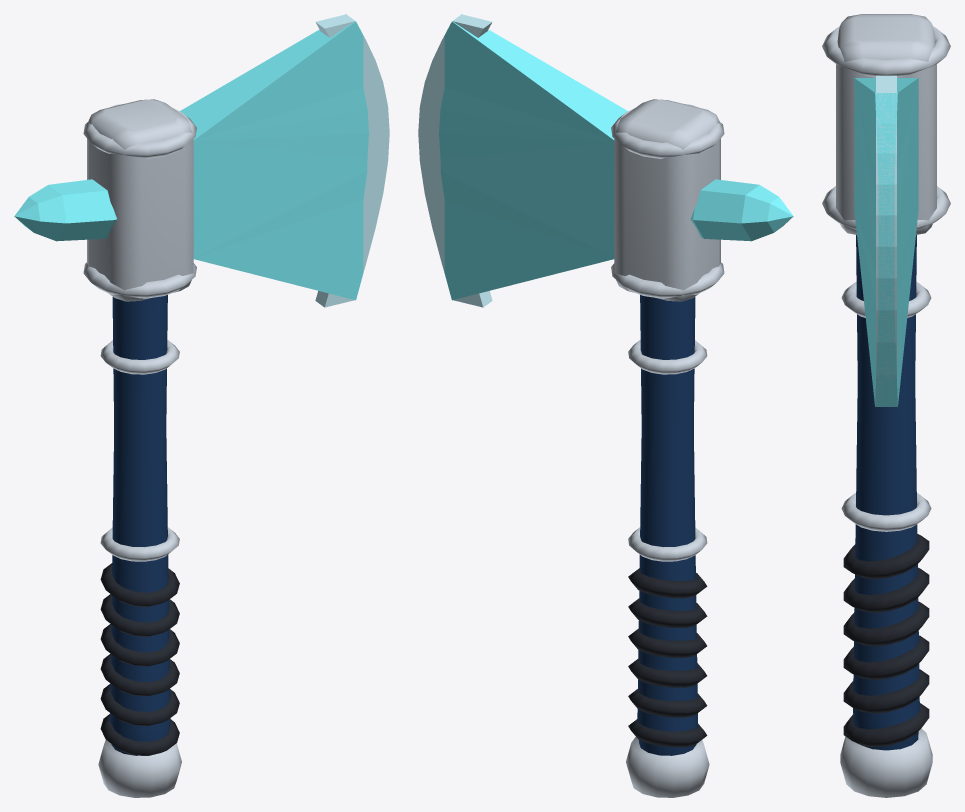
File: Tool_T8.fbx
The picture shows the model from 3 angles, left to right: view 1: azimuth 30°, elevation 25°; view 2: azimuth 150°, elevation 25°; view 3: azimuth 270°, elevation 25°; orthographic projection. The views are drawn at different scales.
Parts seen in each view (by area): view 1: ToolT8Head, ToolT8Handle; view 2: ToolT8Head, ToolT8Handle; view 3: ToolT8Handle, ToolT8Head.
Part boxes in pixels (box(x1,y1,x2,y2)): ToolT8Head: box(14, 14, 389, 307); ToolT8Handle: box(98, 295, 181, 797); ToolT8Head: box(418, 14, 793, 307); ToolT8Handle: box(626, 295, 709, 797); ToolT8Handle: box(840, 235, 932, 797); ToolT8Head: box(822, 14, 950, 406).
Size of the model in its own units: 239 by 440 by 64.
